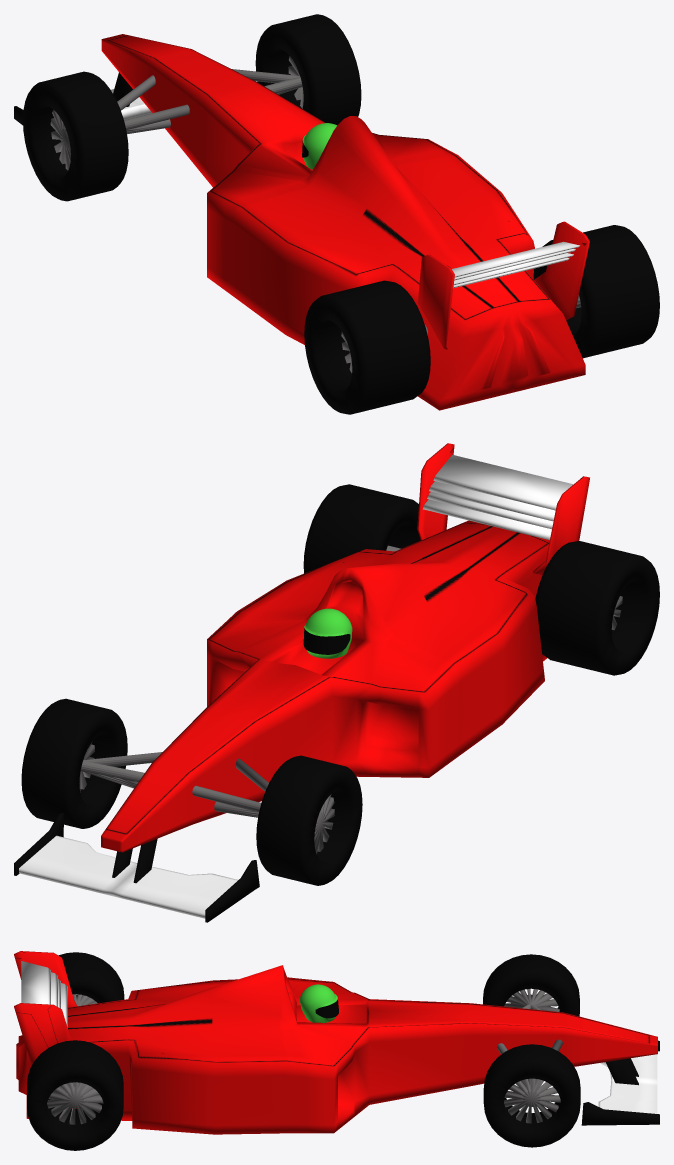
The model's file is F1MODELStraight.fbx.
3 renders of one model, top to bottom at view 1: azimuth 30°, elevation 25°; view 2: azimuth 150°, elevation 25°; view 3: azimuth 270°, elevation 25°, orthographic. The views are drawn at different scales.
Parts seen in each view (by area): view 1: Chassis, RearWheels, Front, RearSpoilerSupport, Wheel_Rim_and_Axe_Str, RearSpoilerBlades, Helmet; view 2: Chassis, Front, RearWheels, RearSpoilerBlades, Front_Spoiler, Wheel_Rim_and_Axe_Str, RearSpoilerSupport, Front_SpoilerSupports, Helmet, Visor; view 3: Chassis, Front, RearWheels, RearSpoilerSupport, Wheel_Rim_and_Axe_Str, Front_Spoiler, Front_SpoilerSupports, Wheel_Rim_and_Axel, RearSpoilerBlades, Helmet.
Part boxes in pixels (<box>): Chassis: <box>101,34,585,410</box>; RearWheels: <box>304,225,659,414</box>; Front: <box>23,14,361,201</box>; RearSpoilerSupport: <box>418,221,589,350</box>; Wheel_Rim_and_Axe_Str: <box>50,56,303,170</box>; RearSpoilerBlades: <box>452,241,579,288</box>; Helmet: <box>302,123,337,169</box>; Chassis: <box>101,520,549,852</box>; Front: <box>21,698,362,885</box>; RearWheels: <box>303,484,659,675</box>; RearSpoilerBlades: <box>423,455,573,540</box>; Front_Spoiler: <box>19,835,237,918</box>; Wheel_Rim_and_Axe_Str: <box>79,742,334,854</box>; RearSpoilerSupport: <box>417,443,589,575</box>; Front_SpoilerSupports: <box>14,813,259,922</box>; Helmet: <box>304,608,352,658</box>; Visor: <box>303,628,350,654</box>; Chassis: <box>16,965,657,1134</box>; Front: <box>483,954,580,1147</box>; RearWheels: <box>27,952,124,1150</box>; RearSpoilerSupport: <box>14,951,77,1065</box>; Wheel_Rim_and_Axe_Str: <box>497,989,562,1123</box>; Front_Spoiler: <box>598,1054,657,1113</box>; Front_SpoilerSupports: <box>581,1040,659,1125</box>; Wheel_Rim_and_Axel: <box>47,994,103,1124</box>; RearSpoilerBlades: <box>21,961,67,1028</box>; Helmet: <box>299,984,337,1022</box>.
Bounding box in the file's own units: 5.64 × 2.98 × 13.53.
9 materials, 9 textured.
